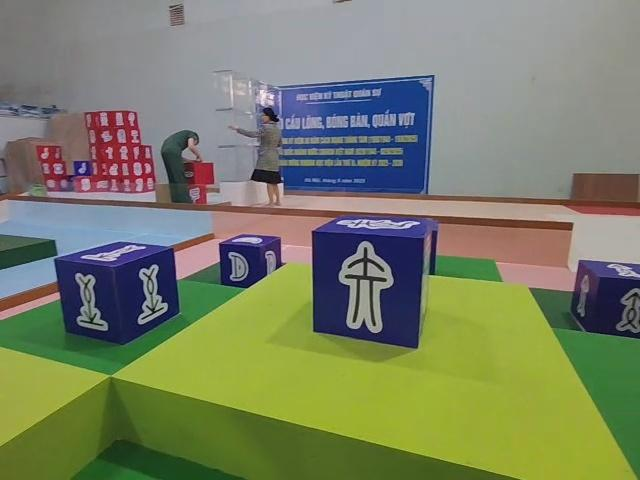R2 Fake Blue: (311, 214, 437, 349)
R2 Real Blue: (54, 242, 178, 345), (570, 260, 639, 340), (218, 234, 282, 289)
